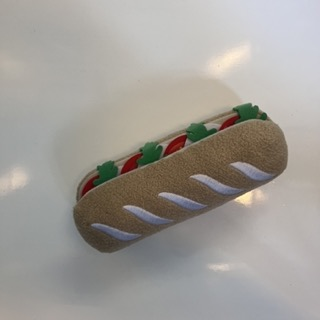sandwich: (70, 103, 288, 255)
